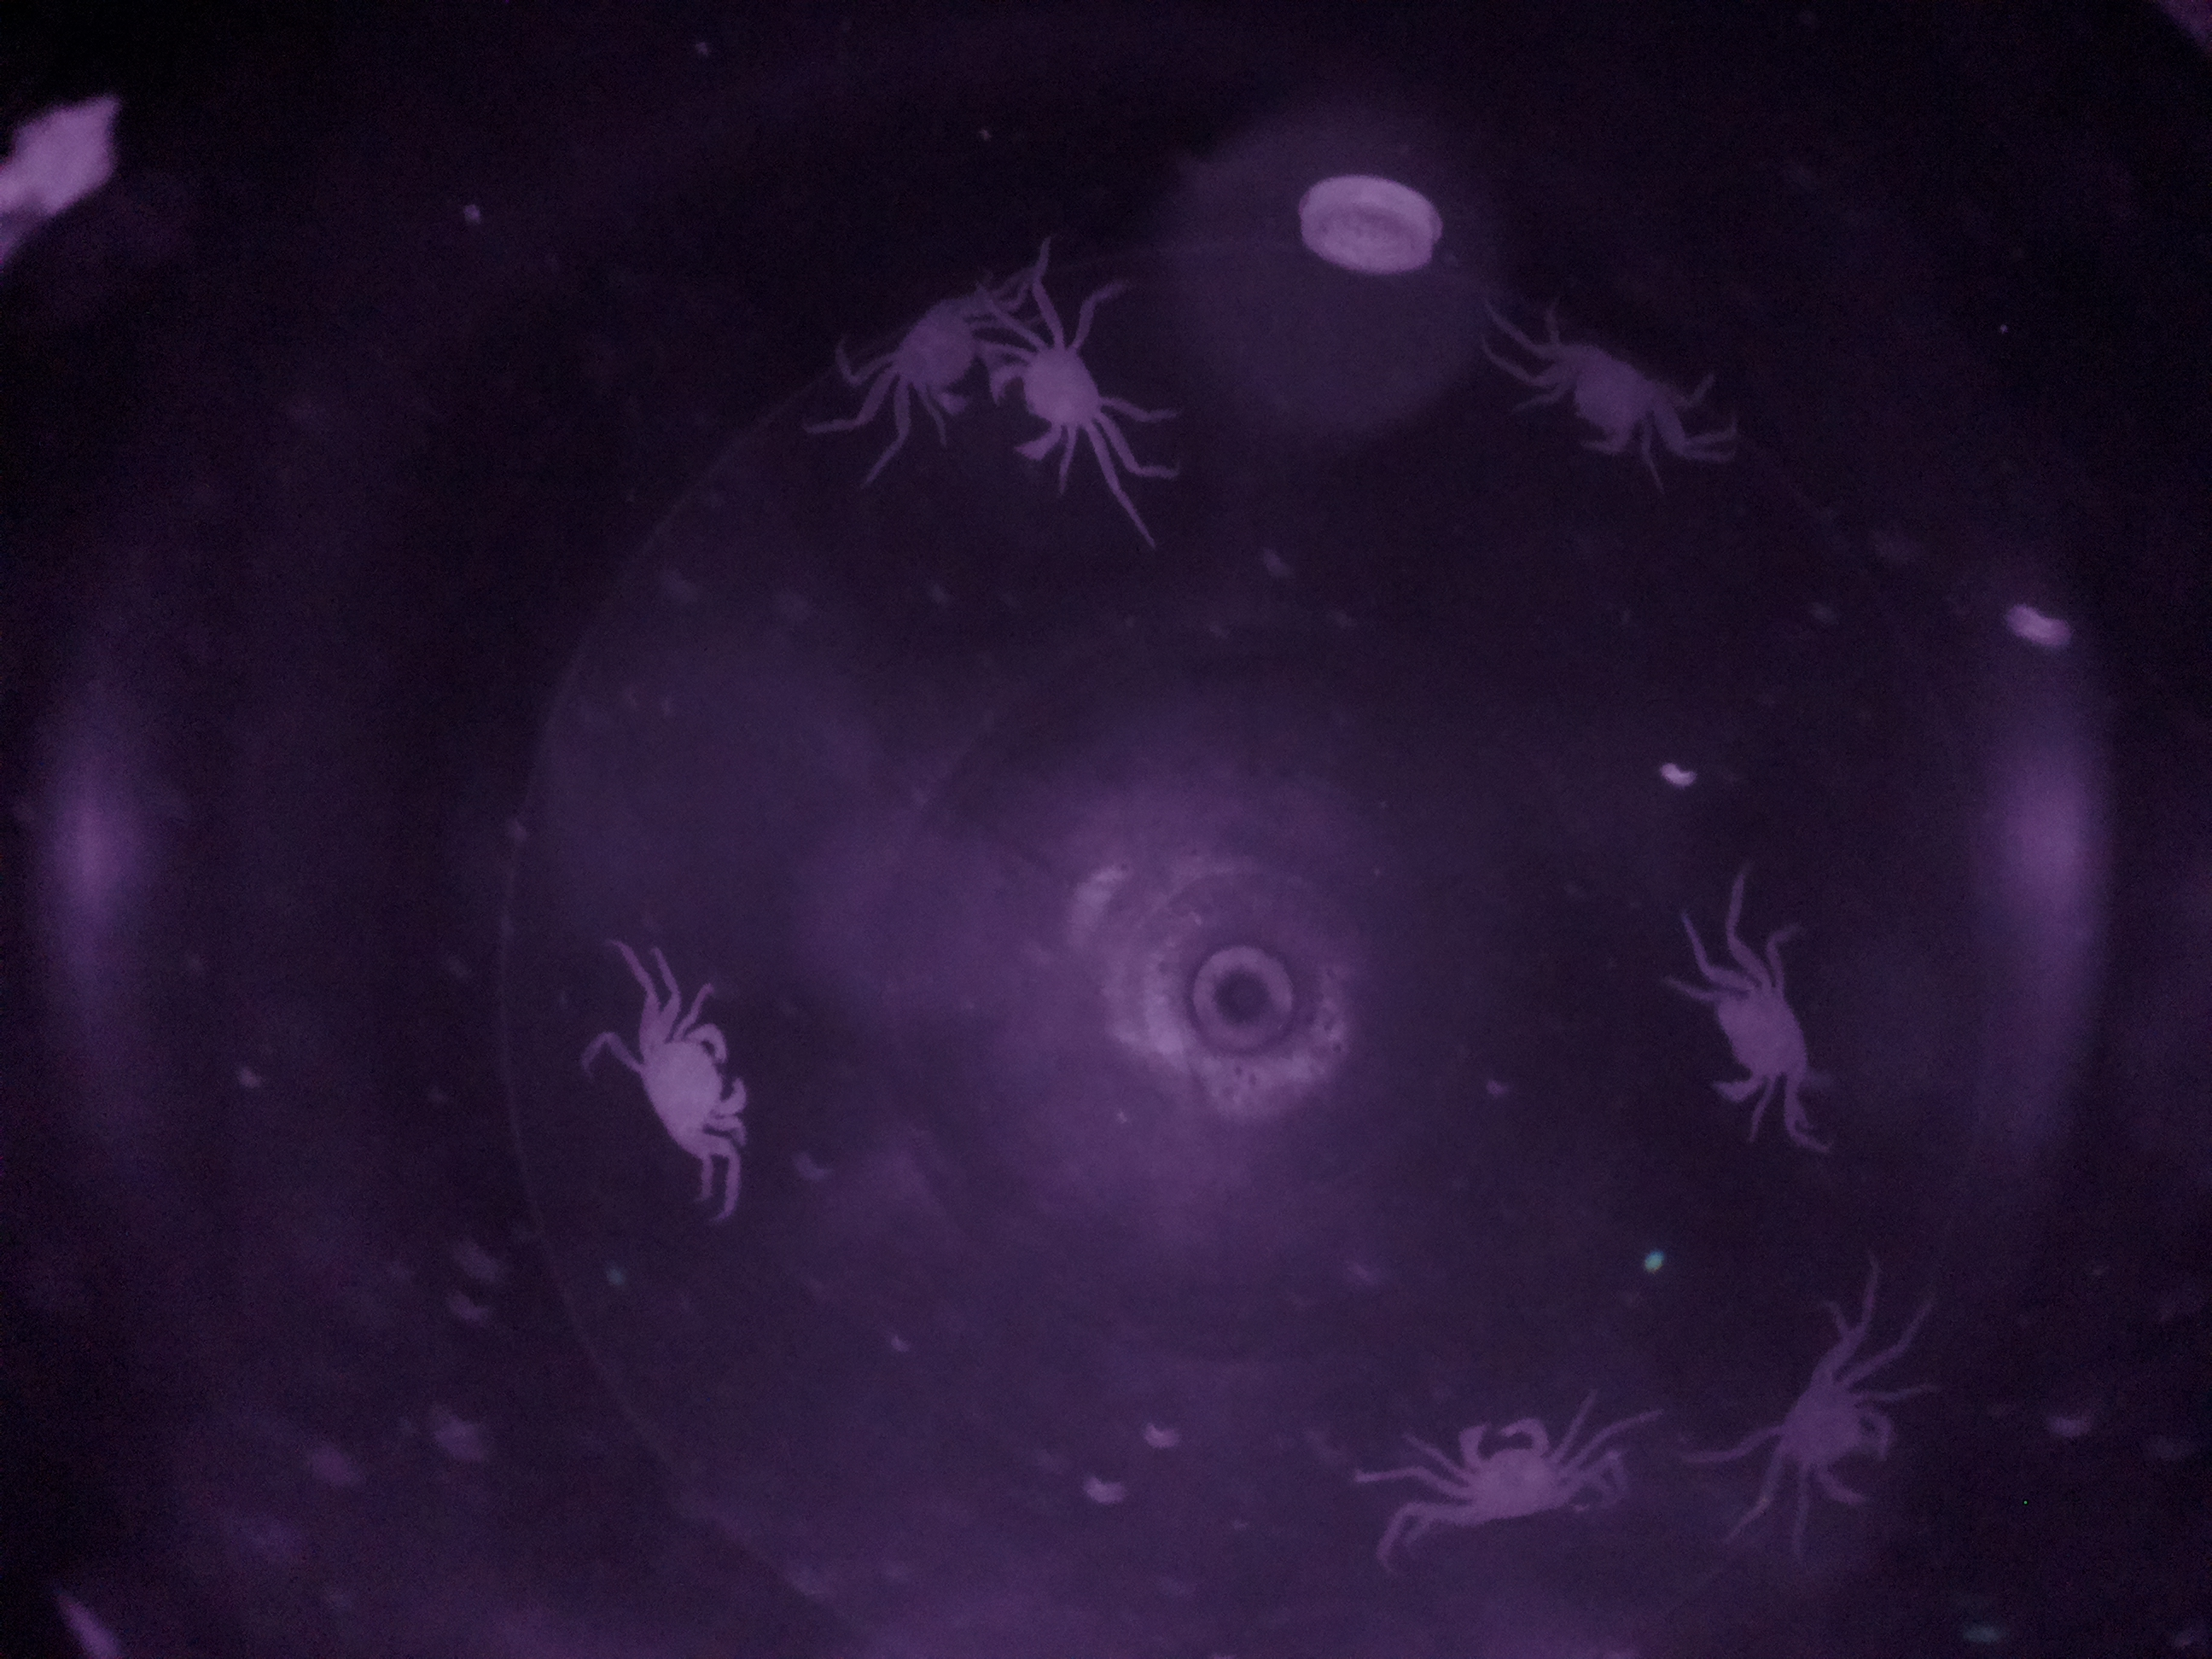Crab: (1681, 945, 1831, 1148), (1756, 1333, 1911, 1520), (977, 293, 1132, 472), (1522, 319, 1700, 471), (611, 995, 754, 1182), (1426, 1405, 1588, 1546)
